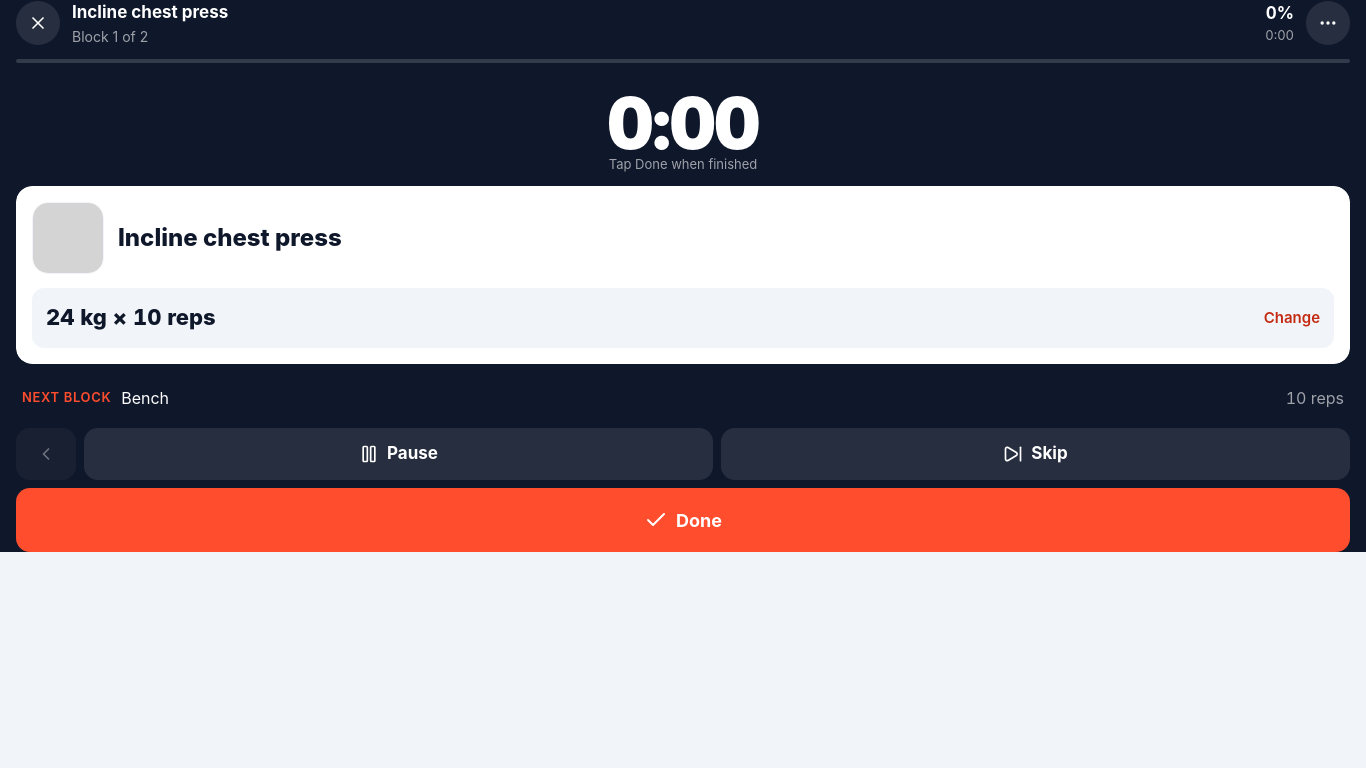
Test: End session › is a modal dialog: focus moves in and stays, the timer behind is inert, Escape closes it
Click the button named "End session".
click(38, 23)  # box [16,1,60,45]
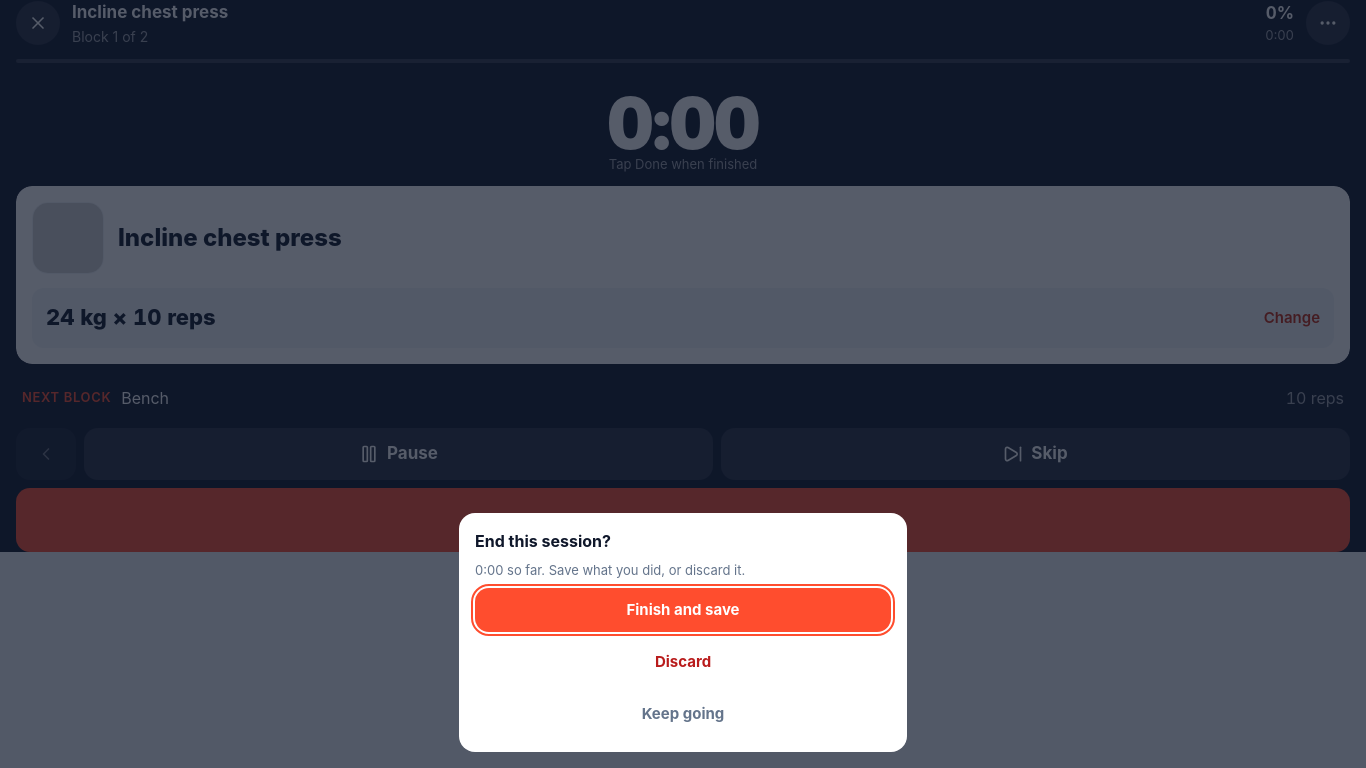
Press Escape in the button "Finish and save", box [475,588,891,632]
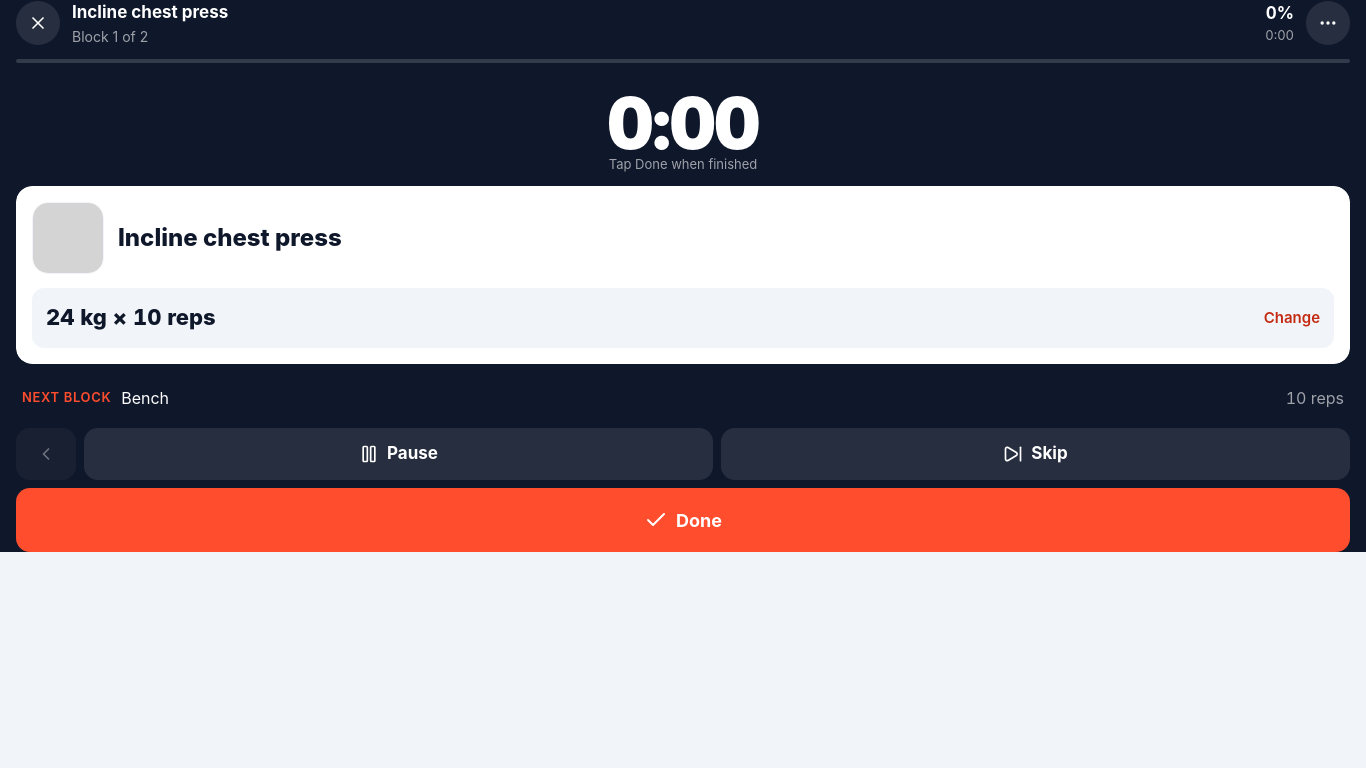
Expected: the button named "More" is shown, [1306,1,1350,45]
Result: the dialog is gone
